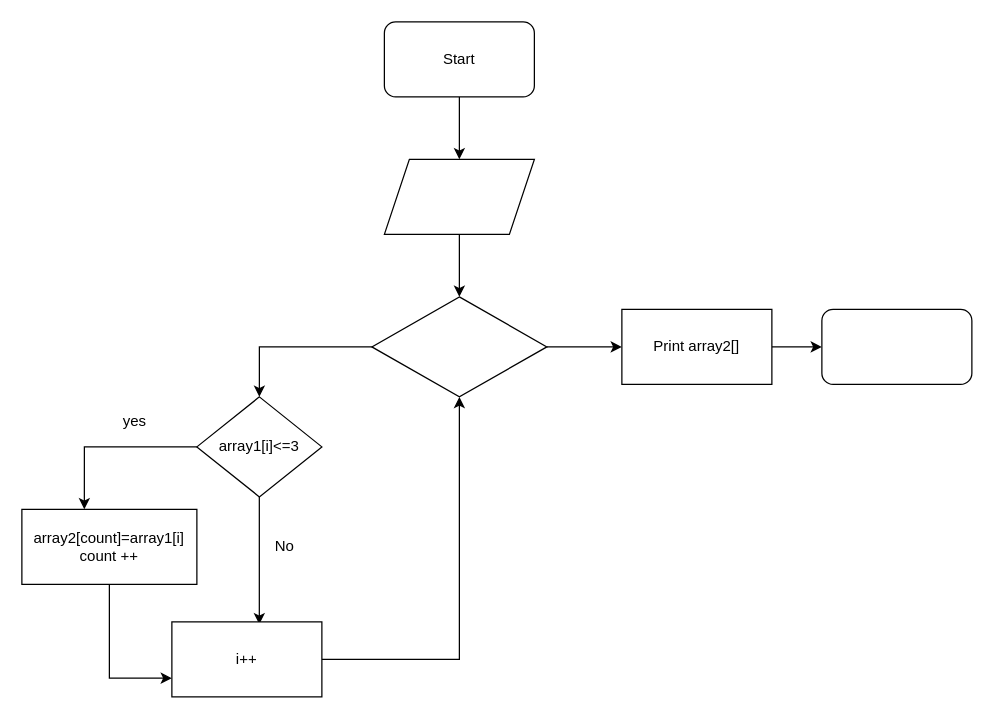
The diagram is 994 pixels wide and 719 high, and some of its shapes have lost their labels. The centre of each missing label's shape, as x and y in pixels:
"array1[] array2[] int count =0" belongs at (458,196).
"End" belongs at (896,346).
"i<array1.Length" belongs at (459,346).
